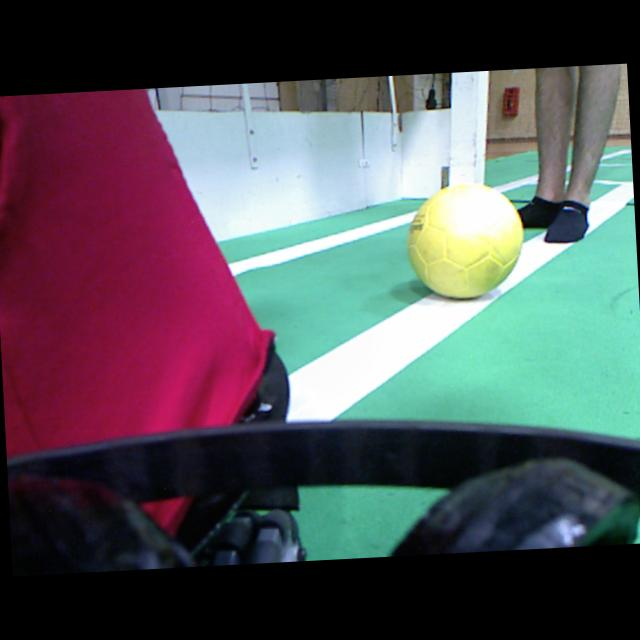ball: (407, 185, 523, 298)
goal: (449, 71, 488, 185)
